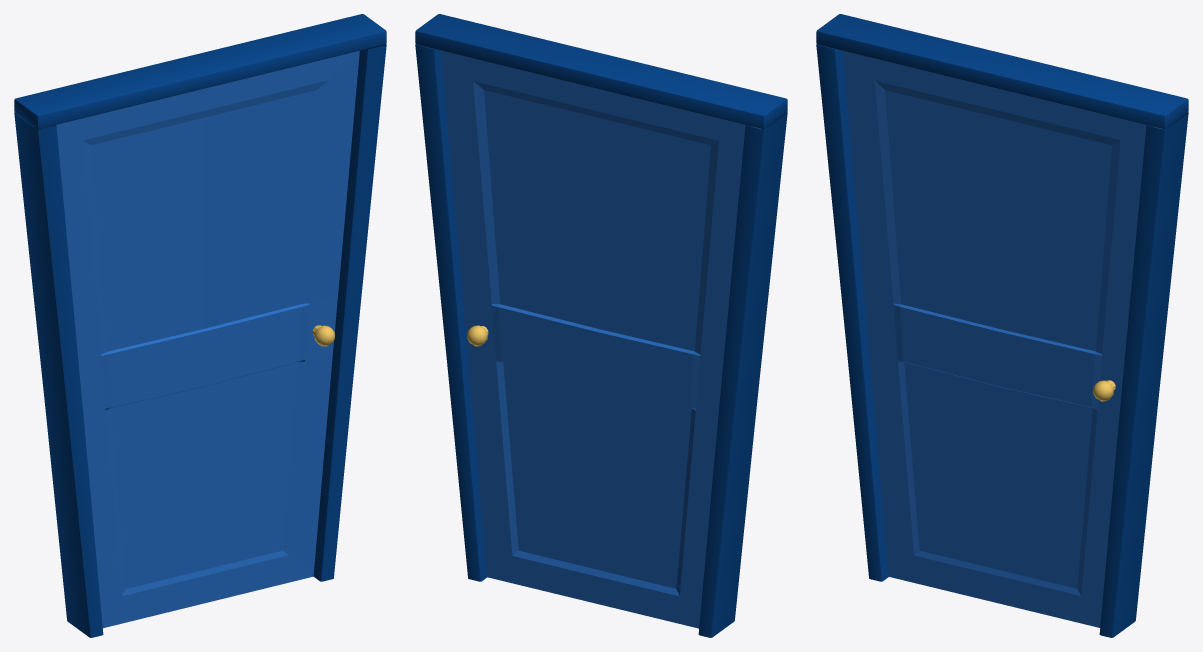
File: Stylised_Door.fbx
The picture shows the model from 3 angles, left to right: view 1: azimuth 30°, elevation 25°; view 2: azimuth 150°, elevation 25°; view 3: azimuth 330°, elevation 25°; orthographic projection.
Parts seen in each view (by area): view 1: Door, DoorFrame; view 2: Door, DoorFrame; view 3: Door, DoorFrame.
Part boxes in pixels (left/top/right/bottom): Door: left=41, top=51, right=359, bottom=628; DoorFrame: left=14, top=14, right=386, bottom=637; Door: left=441, top=50, right=760, bottom=628; DoorFrame: left=415, top=14, right=787, bottom=637; Door: left=842, top=51, right=1162, bottom=627; DoorFrame: left=816, top=14, right=1188, bottom=637.
Bounding box in the file's own units: 66.78 × 97.66 × 11.24.
